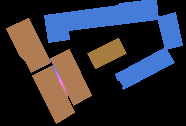parkingspot: (44, 0, 158, 42), (115, 47, 174, 89), (32, 65, 74, 123), (6, 18, 50, 72), (50, 49, 91, 105), (87, 38, 126, 68), (157, 12, 182, 49)
